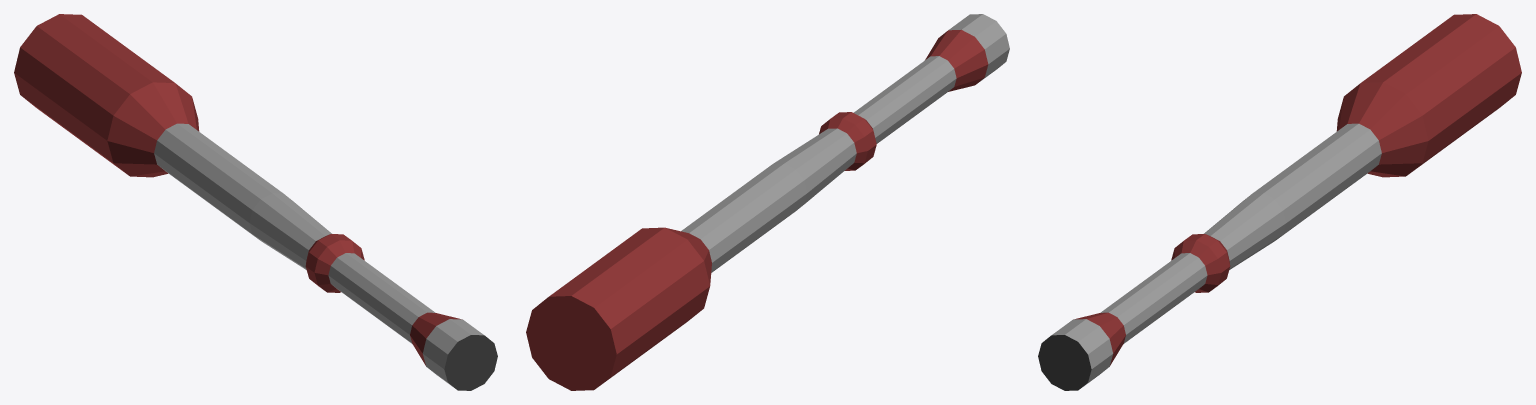
The model's file is PlayerLaser.fbx.
3 renders of one model, left to right at view 1: azimuth 30°, elevation 25°; view 2: azimuth 150°, elevation 25°; view 3: azimuth 330°, elevation 25°, orthographic.
Visible parts, largest first — view 1: pasted__polySurface37; view 2: pasted__polySurface37; view 3: pasted__polySurface37.
Boxes of the visible parts, bbox=[...] form: pasted__polySurface37: bbox=[14, 14, 497, 390]; pasted__polySurface37: bbox=[526, 14, 1009, 390]; pasted__polySurface37: bbox=[1038, 14, 1521, 390].
Bounding box in the file's own units: 37.2 × 37.2 × 292.
